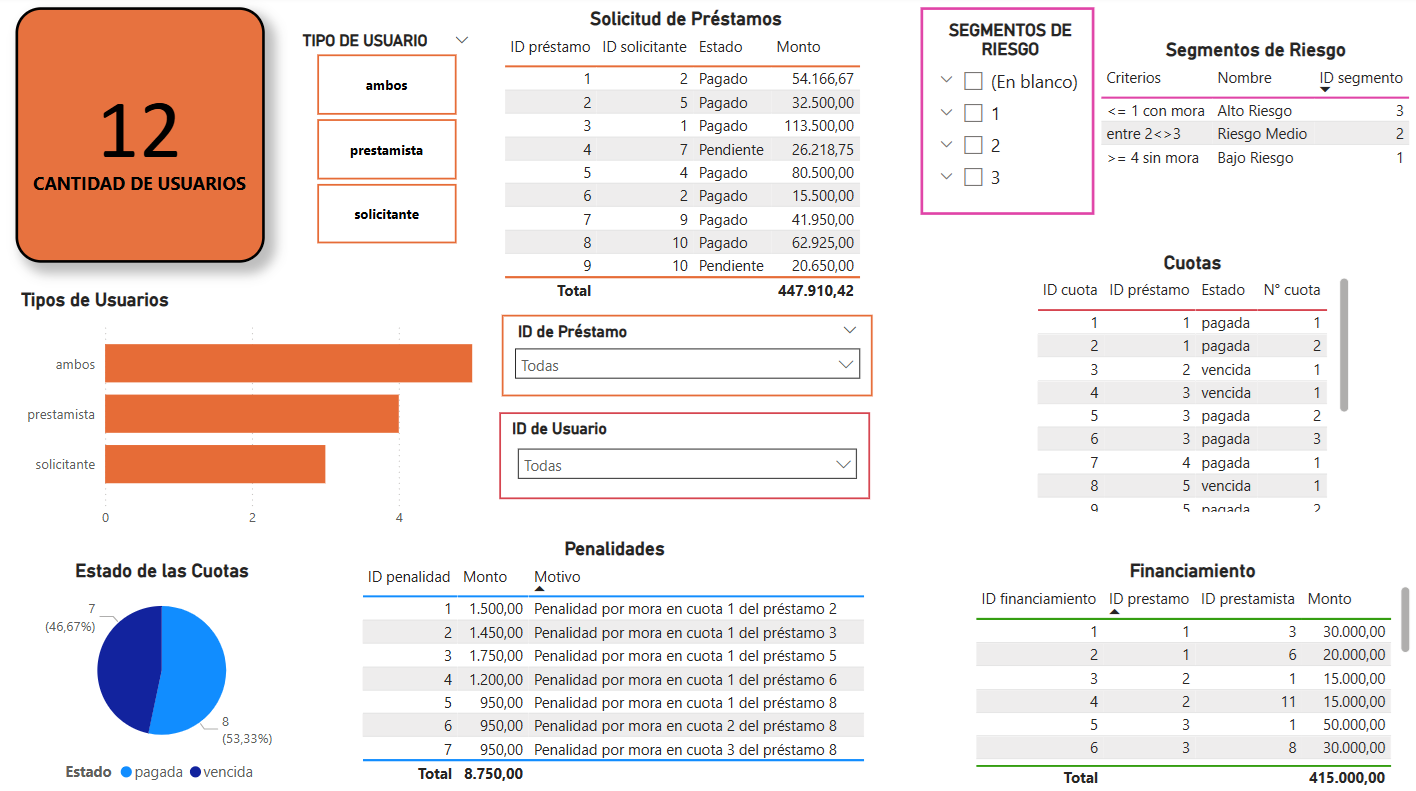

The page's visual inventory and layout, read from the dashboard file:
{"tool":"powerbi","page":{"name":"Dashboard","canvas":[1280,720],"ordinal":0},"visuals":[{"type":"card","fields":{"Values":["CountNonNull(creditosp2p usuarios.id_usuario)"]},"box":[16,10.1,224.9,230.7],"z":0},{"type":"slicer","fields":{"Values":["creditosp2p usuarios.tipo_usuario"]},"box":[261,27.4,175.9,203.3],"z":1000},{"type":"tableEx","title":"Solicitud de Préstamos","fields":{"Values":["creditosp2p solicitud_prestamos.id_prestamo","creditosp2p solicitud_prestamos.id_solicitante","creditosp2p solicitud_prestamos.estado","Sum(creditosp2p solicitud_prestamos.monto_final)"]},"box":[451.3,10.1,338.8,269.6],"z":2000},{"type":"slicer","fields":{"Values":["creditosp2p solicitud_prestamos.id_prestamo"]},"box":[454.2,286.9,334.5,73.5],"z":3000},{"type":"tableEx","title":"Penalidades","fields":{"Values":["creditosp2p penalidades.id_penalidad","Sum(creditosp2p penalidades.monto_penalidad)","creditosp2p penalidades.motivo_penalidad"]},"box":[322.9,488.6,467.1,231.4],"z":4000},{"type":"tableEx","title":"Segmentos de Riesgo","fields":{"Values":["creditosp2p segmentos_riesgo.criterios","creditosp2p segmentos_riesgo.nombre_segmento","creditosp2p segmentos_riesgo.id_segmento"]},"box":[988.6,38.6,291.4,131.4],"z":5000},{"type":"slicer","title":"SEGMENTOS DE RIESGO","fields":{"Values":["creditosp2p usuarios_segmento.id_segmento","creditosp2p usuarios_segmento.id_solicitante"]},"box":[831.4,10,157.1,187.1],"z":6000},{"type":"pieChart","title":"Estado de las Cuotas ","fields":{"Category":["creditosp2p cuotas.estado"],"Y":["CountNonNull(creditosp2p cuotas.id_cuota)"]},"box":[0,508.6,295.7,210],"z":7000},{"type":"clusteredBarChart","title":"Tipos de Usuarios","fields":{"Category":["creditosp2p usuarios.tipo_usuario"],"Y":["CountNonNull(creditosp2p usuarios.id_usuario)"]},"box":[15.9,263.8,421,224.9],"z":8000},{"type":"tableEx","title":"Financiamiento","fields":{"Values":["creditosp2p financiamiento.id_financiamiento","creditosp2p financiamiento.id_prestamo","creditosp2p financiamiento.id_prestamista","Sum(creditosp2p financiamiento.monto_aportado)"]},"box":[875.7,508.6,402.9,211.4],"z":9000},{"type":"slicer","title":"ID de Usuario","fields":{"Values":["creditosp2p usuarios.id_usuario"]},"box":[451.4,375.7,334.3,78.6],"z":10000},{"type":"tableEx","title":"Cuotas","fields":{"Values":["creditosp2p cuotas.id_cuota","creditosp2p cuotas.id_prestamo","creditosp2p cuotas.estado","creditosp2p cuotas.numero_cuota"]},"box":[931,230,292,240],"z":11000}]}

Visuals, with their boxes in screenshot pixels (x1, y1, x2, y2), scaled from the page's 1280x720 canvas onto the 1416x791 screenshot:
card - CountNonNull(creditosp2p usuarios.id_usuario): (x1=18, y1=11, x2=266, y2=265)
slicer - creditosp2p usuarios.tipo_usuario: (x1=289, y1=30, x2=483, y2=253)
"Solicitud de Préstamos" tableEx: (x1=499, y1=11, x2=874, y2=307)
slicer - creditosp2p solicitud_prestamos.id_prestamo: (x1=502, y1=315, x2=872, y2=396)
"Penalidades" tableEx: (x1=357, y1=537, x2=874, y2=790)
"Segmentos de Riesgo" tableEx: (x1=1094, y1=42, x2=1415, y2=187)
"SEGMENTOS DE RIESGO" slicer: (x1=920, y1=11, x2=1094, y2=217)
"Estado de las Cuotas " pieChart: (x1=0, y1=559, x2=327, y2=789)
"Tipos de Usuarios" clusteredBarChart: (x1=18, y1=290, x2=483, y2=537)
"Financiamiento" tableEx: (x1=969, y1=559, x2=1414, y2=790)
"ID de Usuario" slicer: (x1=499, y1=413, x2=869, y2=499)
"Cuotas" tableEx: (x1=1030, y1=253, x2=1353, y2=516)
